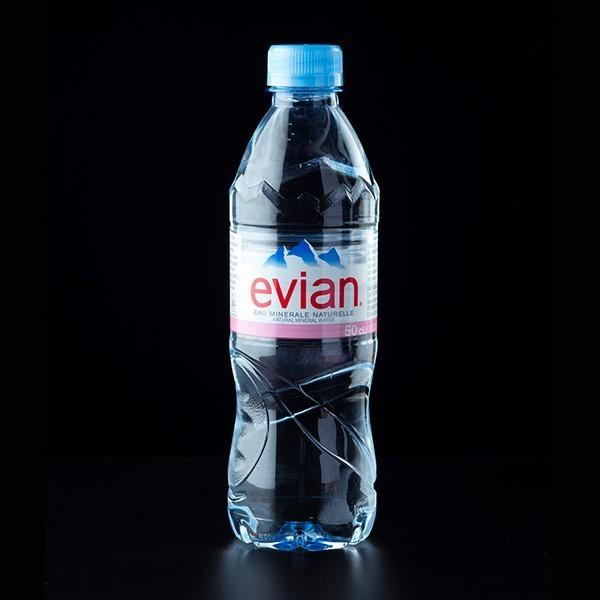plastic: (226, 44, 382, 554)
